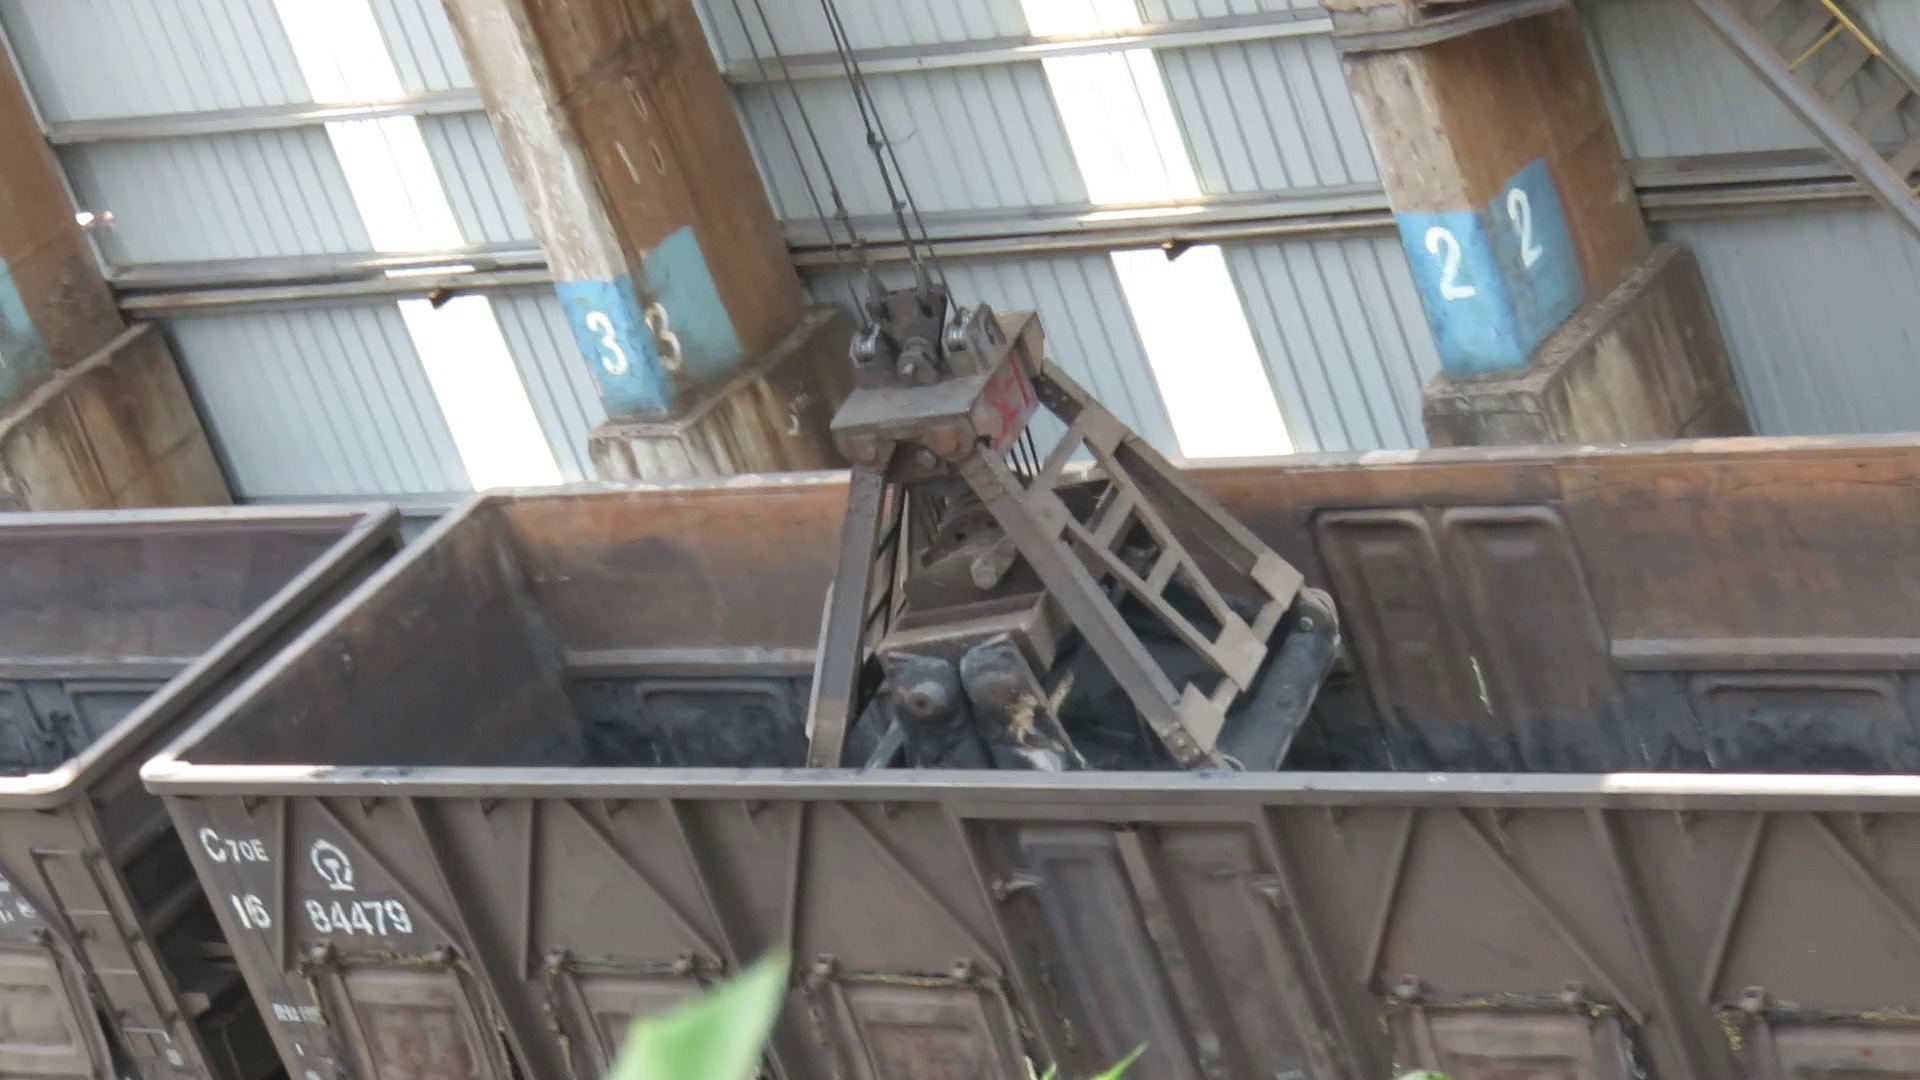grab: (795, 276, 1346, 782)
